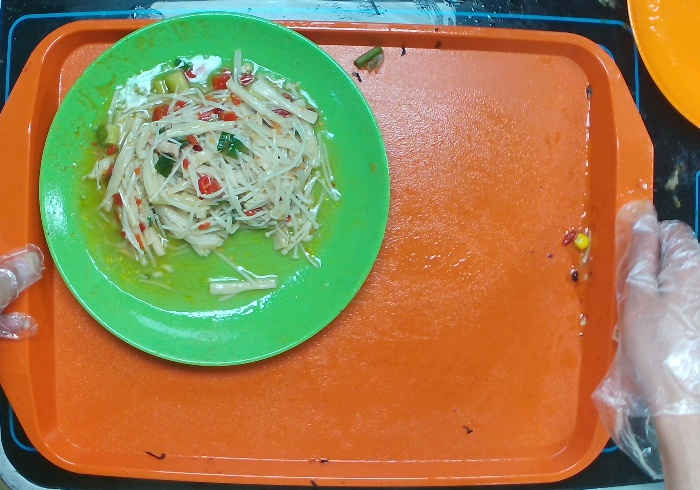HZYJPL-Lv_Se_Yuan_Pan: (36, 8, 392, 368)
